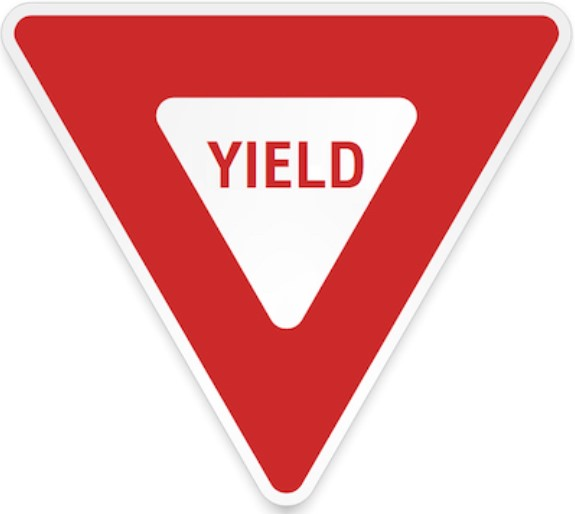Yeild: (1, 3, 571, 509)
